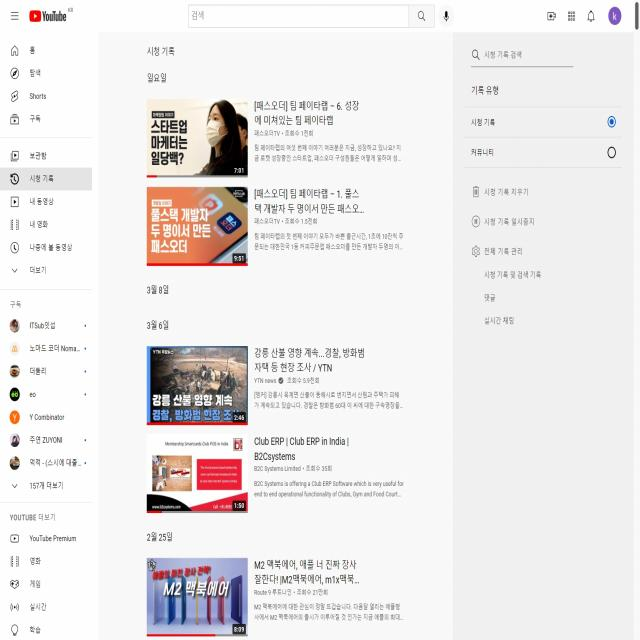menu-bar: (539, 3, 625, 29)
search: (186, 1, 436, 30), (468, 44, 578, 70)
side-panel: (469, 75, 625, 342)
